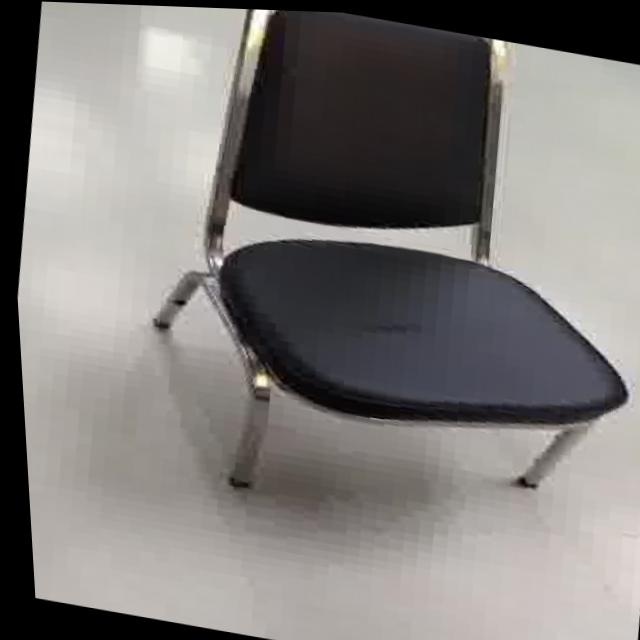chair: (69, 2, 640, 575)
